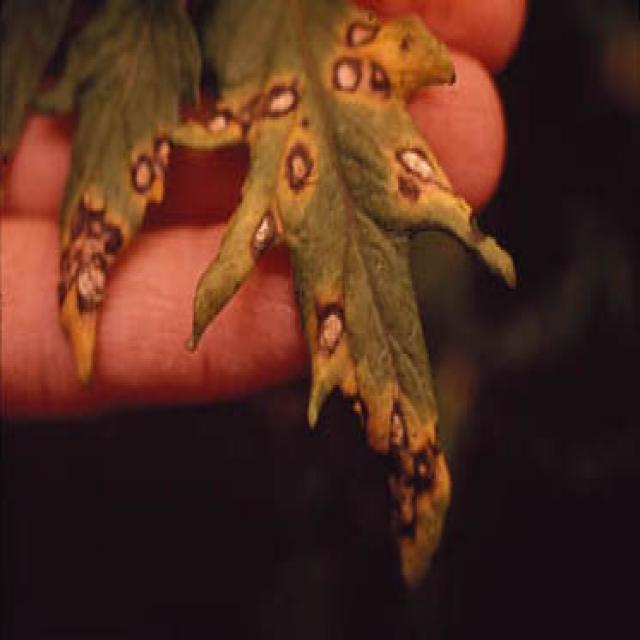Septoria: (235, 14, 500, 586), (71, 96, 224, 380)
